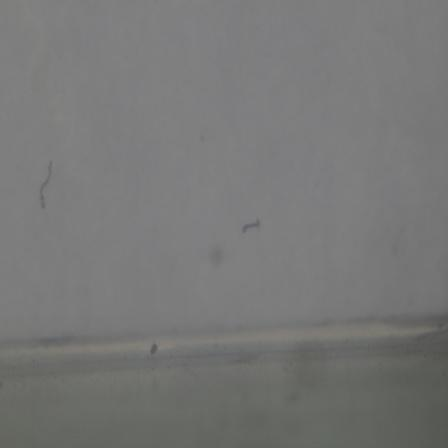Jentik-Nyamuk: (36, 153, 59, 216), (239, 216, 267, 238)
